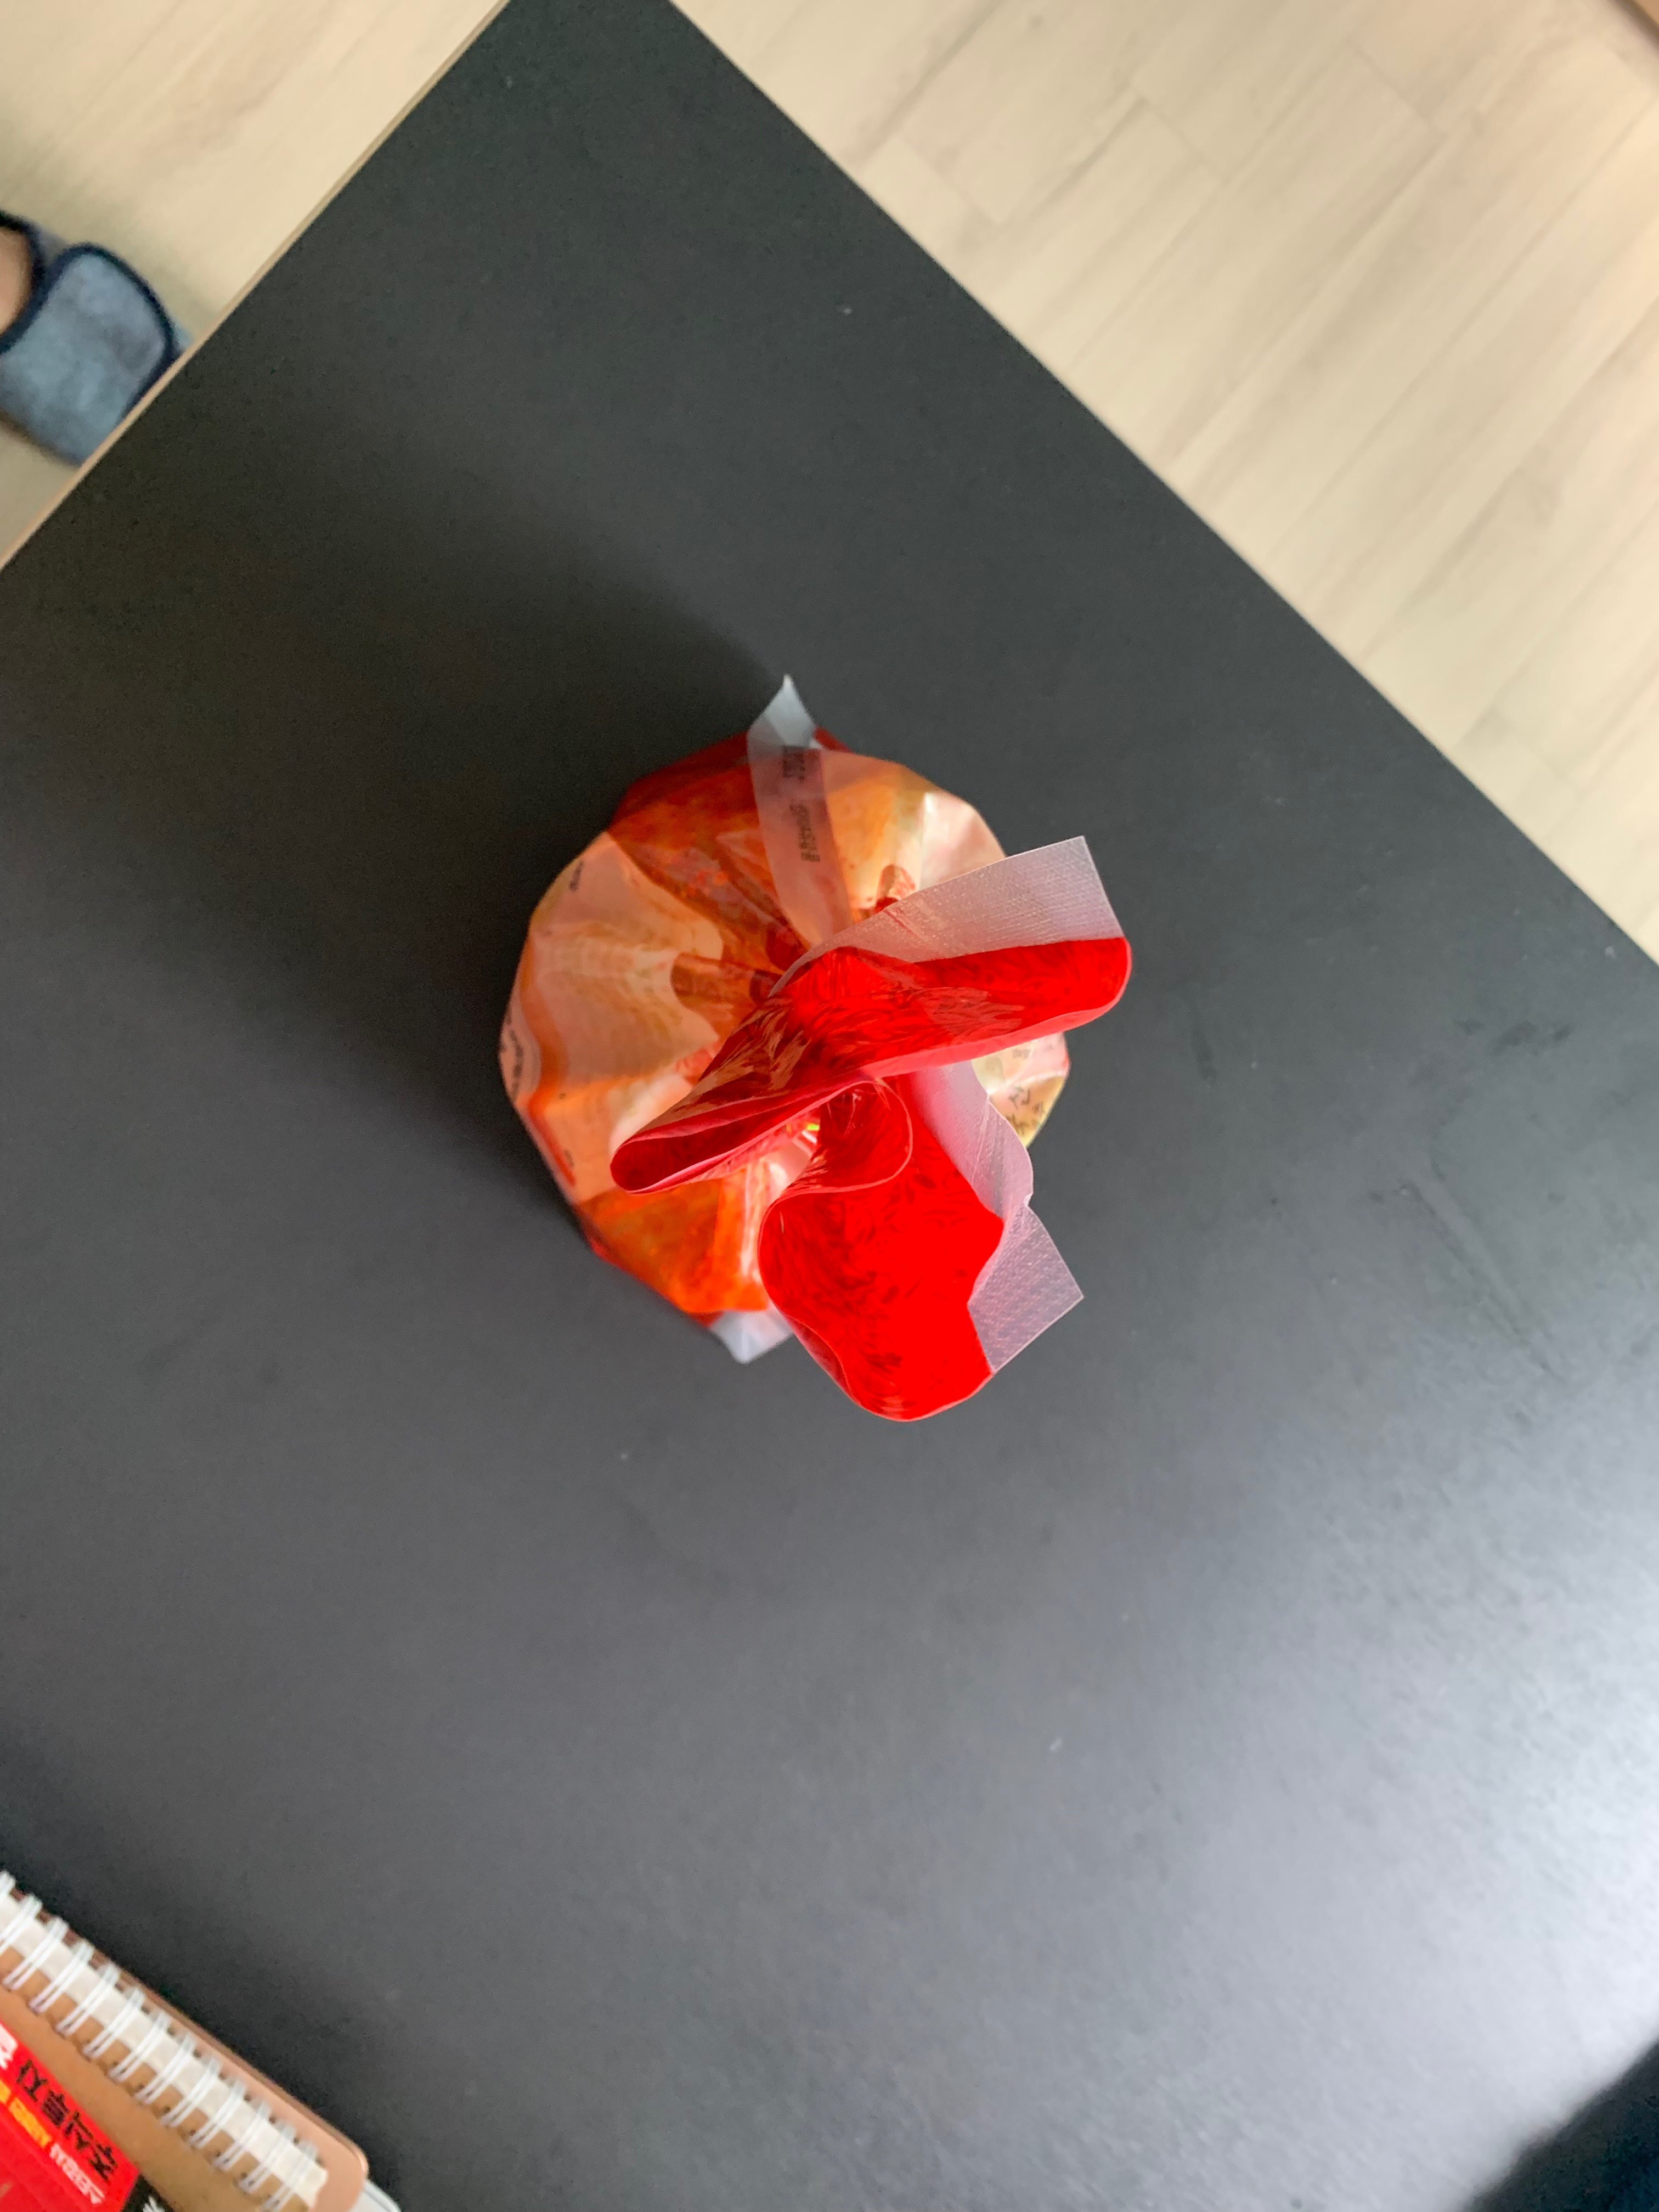kimchi: (505, 742, 1131, 1421)
